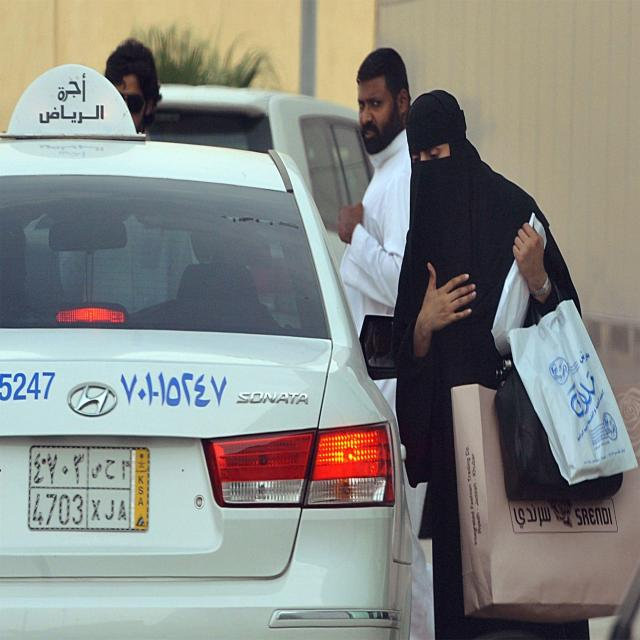license_plate: (27, 443, 152, 535)
